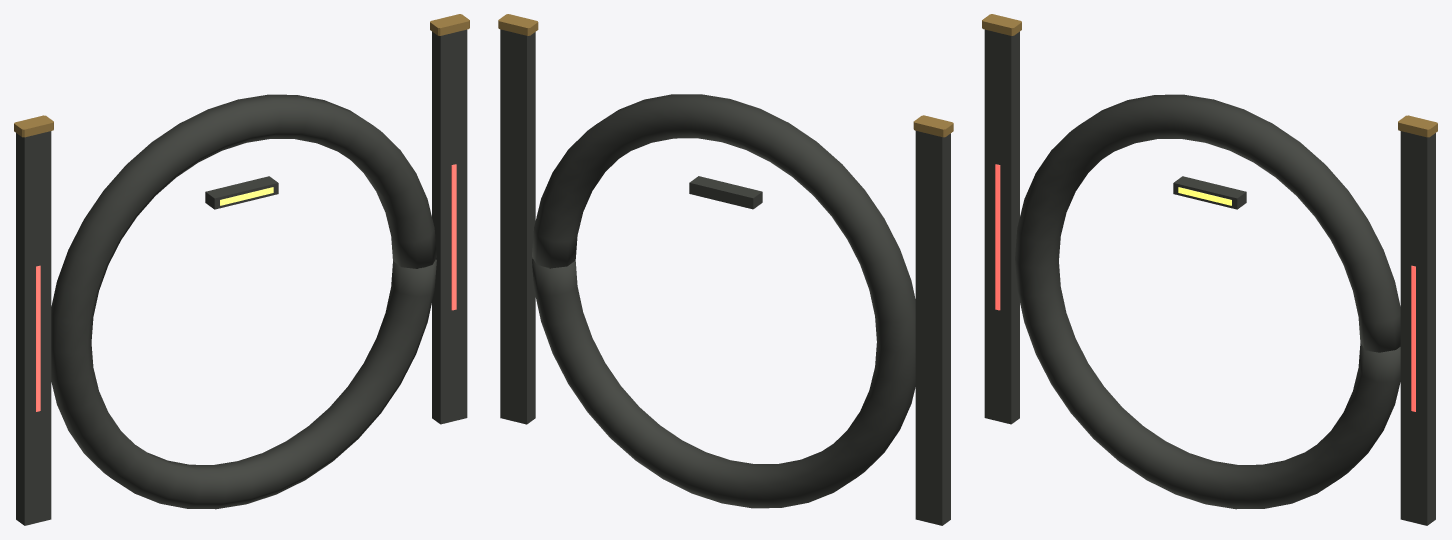
File: b4_vault.glb
3 views of the same model, side by side, from view 1: azimuth 30°, elevation 25°; view 2: azimuth 150°, elevation 25°; view 3: azimuth 330°, elevation 25° (orthographic).
Parts seen in each view (by area): view 1: b4_vault; view 2: b4_vault; view 3: b4_vault.
Boxes of the visible parts, x1=… form: b4_vault: x1=14, y1=14, x2=469, y2=525; b4_vault: x1=498, y1=14, x2=953, y2=525; b4_vault: x1=982, y1=14, x2=1437, y2=525.
Size of the model in its own units: 8.4 by 7.69 by 0.6652.
